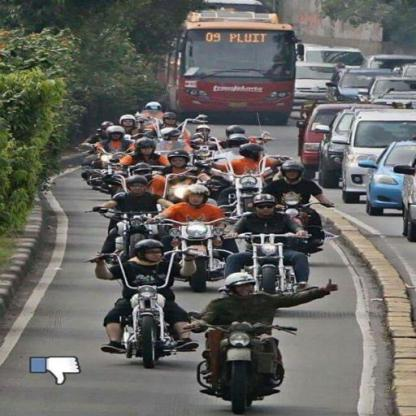bus: (170, 7, 309, 125)
car: (358, 136, 416, 206)
motorbike: (93, 240, 186, 356), (193, 311, 298, 411), (159, 216, 235, 284), (236, 226, 310, 291), (93, 197, 162, 254), (277, 191, 328, 226)
